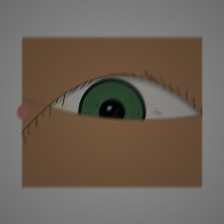pinguecula_lesion: (30, 85, 80, 125)
